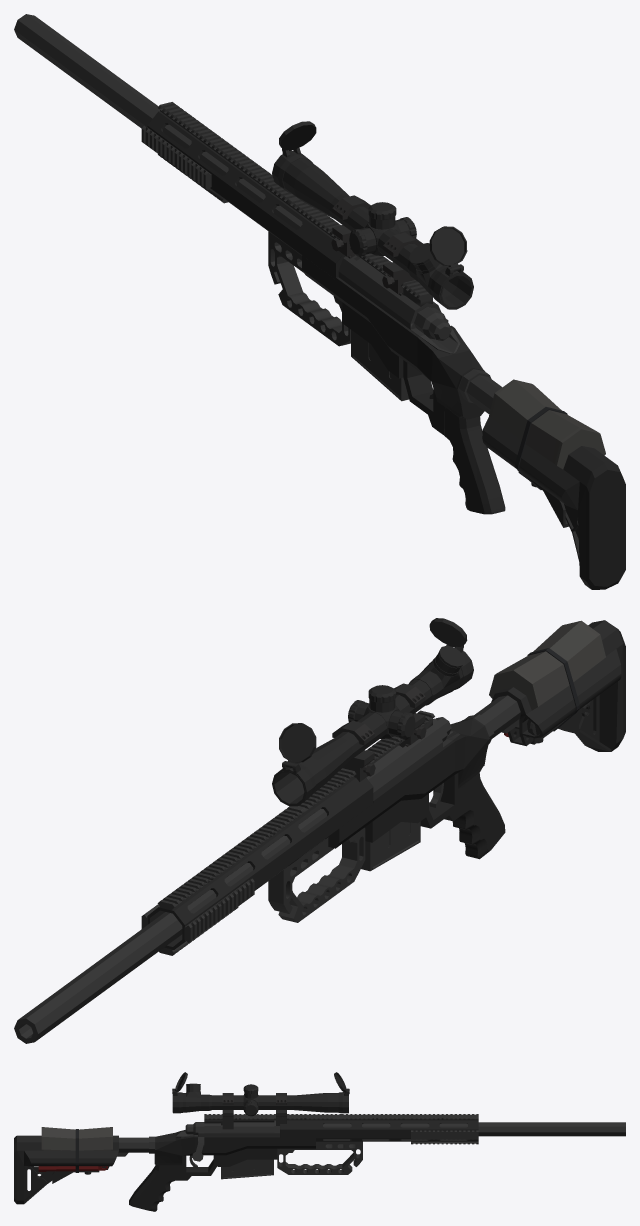
Rendered from hail_mary_placeholder_2.glb.
3 views of the same model, one above another, from view 1: azimuth 30°, elevation 25°; view 2: azimuth 150°, elevation 25°; view 3: azimuth 270°, elevation 25° (orthographic). The views are drawn at different scales.
Parts seen in each view (by area): view 1: Stock_Sopmod, Body_Chasis, Barrel, Handguard, Cheek_Pad, Scope_Leupold, grip_RDE, Grip_Sniper_Handguard, Bolt_Assembly, Rail_Top_Extension, Rail_Top, Magazine_Standard (+6 smaller); view 2: Stock_Sopmod, Barrel, Body_Chasis, Handguard, Cheek_Pad, Scope_Leupold, Grip_Sniper_Handguard, grip_RDE, Rail_Top_Extension, Bolt_Assembly, Magazine_Standard, Rail_Top (+8 smaller); view 3: Body_Chasis, Handguard, Stock_Sopmod, Barrel, Scope_Leupold, Cheek_Pad, Grip_Sniper_Handguard, grip_RDE, Rail_Top_Extension, bolt, Rail_Top, Magazine_Standard (+8 smaller).
Part boxes in pixels (x1=…): Stock_Sopmod: x1=482, y1=416, x2=625, y2=589; Body_Chasis: x1=302, y1=255, x2=484, y2=435; Barrel: x1=14, y1=14, x2=302, y2=229; Handguard: x1=147, y1=111, x2=345, y2=279; Cheek_Pad: x1=489, y1=379, x2=605, y2=469; Scope_Leupold: x1=282, y1=159, x2=472, y2=308; grip_RDE: x1=444, y1=408, x2=505, y2=514; Grip_Sniper_Handguard: x1=268, y1=231, x2=350, y2=346; Bolt_Assembly: x1=338, y1=255, x2=460, y2=354; Rail_Top_Extension: x1=158, y1=102, x2=297, y2=205; Rail_Top: x1=288, y1=198, x2=432, y2=310; Magazine_Standard: x1=351, y1=330, x2=408, y2=401; Stock_Sopmod: x1=491, y1=620, x2=625, y2=751; Barrel: x1=14, y1=808, x2=326, y2=1043; Body_Chasis: x1=328, y1=718, x2=489, y2=848; Handguard: x1=147, y1=777, x2=373, y2=949; Cheek_Pad: x1=489, y1=620, x2=605, y2=710; Scope_Leupold: x1=273, y1=663, x2=463, y2=805; Grip_Sniper_Handguard: x1=268, y1=827, x2=365, y2=922; grip_RDE: x1=452, y1=773, x2=505, y2=859; Rail_Top_Extension: x1=157, y1=806, x2=304, y2=910; Bolt_Assembly: x1=366, y1=725, x2=460, y2=798; Magazine_Standard: x1=361, y1=821, x2=420, y2=871; Rail_Top: x1=293, y1=710, x2=434, y2=814; Body_Chasis: x1=154, y1=1130, x2=315, y2=1180; Handguard: x1=280, y1=1120, x2=478, y2=1141; Stock_Sopmod: x1=14, y1=1135, x2=118, y2=1204; Barrel: x1=323, y1=1122, x2=625, y2=1136; Scope_Leupold: x1=172, y1=1093, x2=338, y2=1112; Cheek_Pad: x1=41, y1=1127, x2=112, y2=1150; Grip_Sniper_Handguard: x1=277, y1=1141, x2=362, y2=1174; grip_RDE: x1=129, y1=1164, x2=174, y2=1211; Rail_Top_Extension: x1=341, y1=1114, x2=478, y2=1120; bolt: x1=185, y1=1122, x2=274, y2=1161; Rail_Top: x1=204, y1=1114, x2=341, y2=1125; Magazine_Standard: x1=221, y1=1159, x2=273, y2=1179.
Bounding box in the file's own units: 0.1467 × 0.5756 × 2.33.
Materials: 7 (7 with a texture image).
